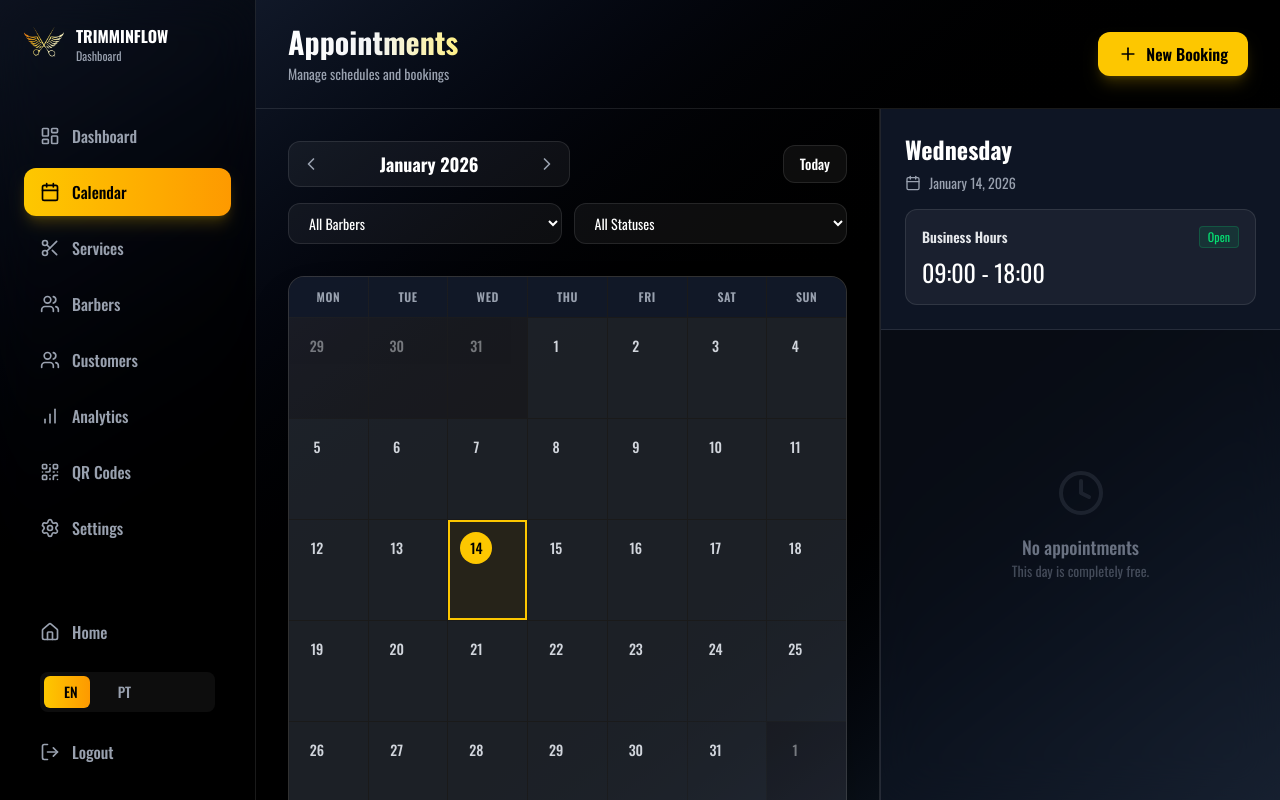
Scenario: Calendar & Appointments › should complete the appointment creation flow
# Open Modal
Click the button "New Booking".
click(1173, 54)  # box [1098,32,1248,76]
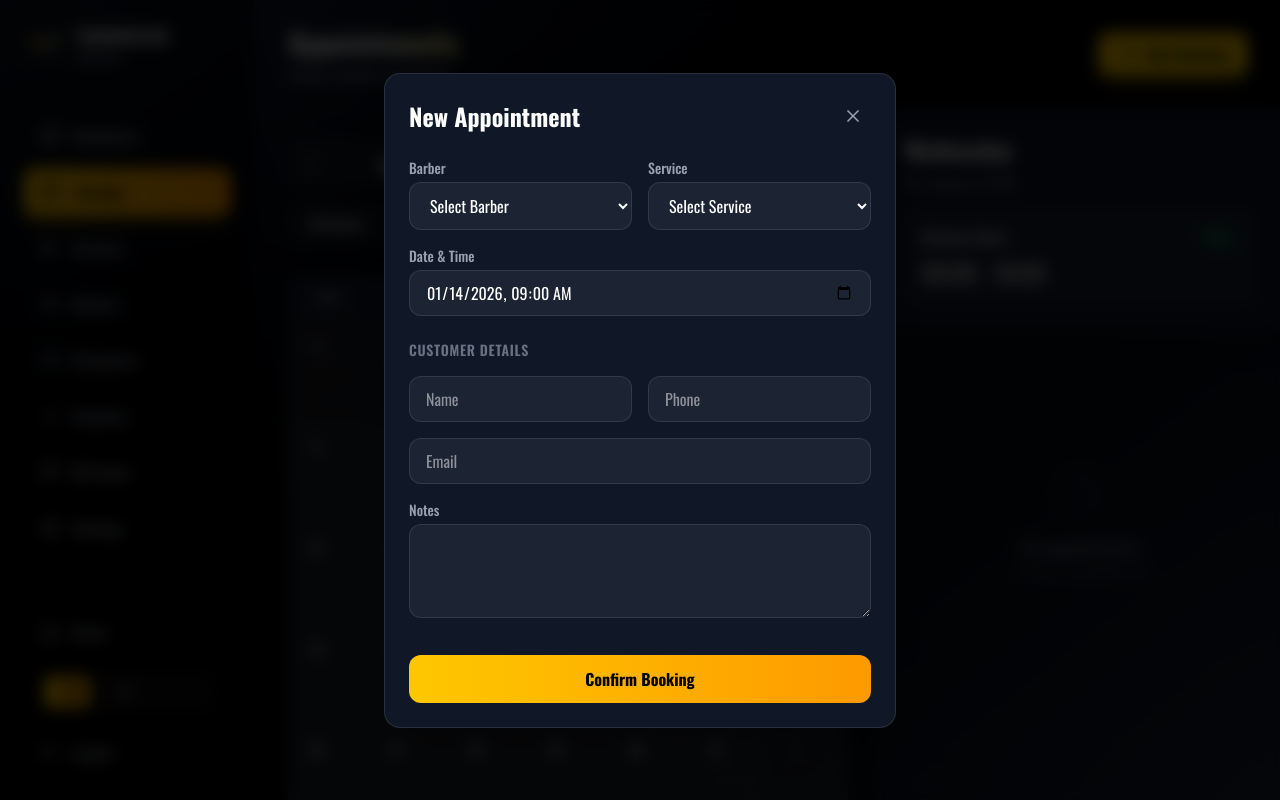
# Fill Form
Select "Maxi G" in the 1st dropdown at (521, 206), box [409,182,632,230]
Select "Haircut ($25)" in the 2nd dropdown at (760, 206), box [648,182,871,230]
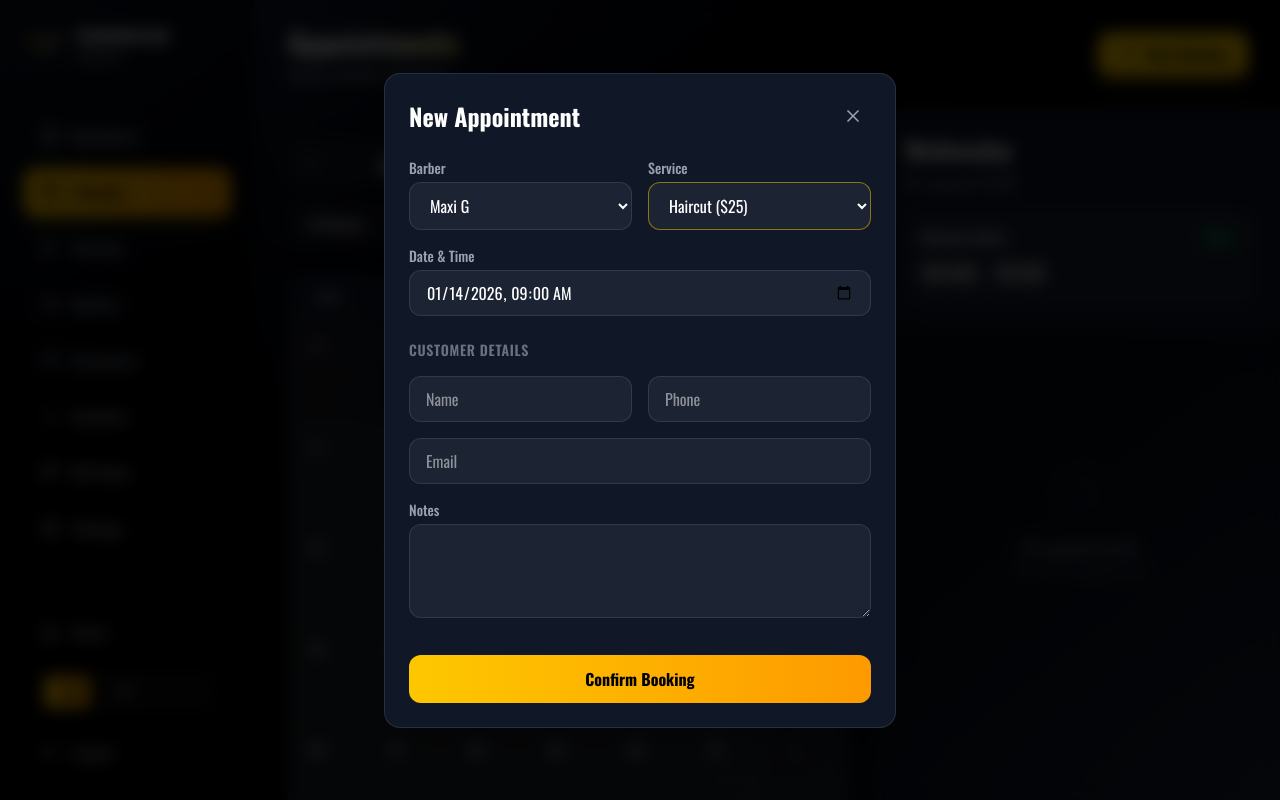
# Type Date (future date)
Type "2025-12-25T10:00" into the 1st field.
click(640, 293); type("2025-12-25T10:00")  # box [409,270,871,316]
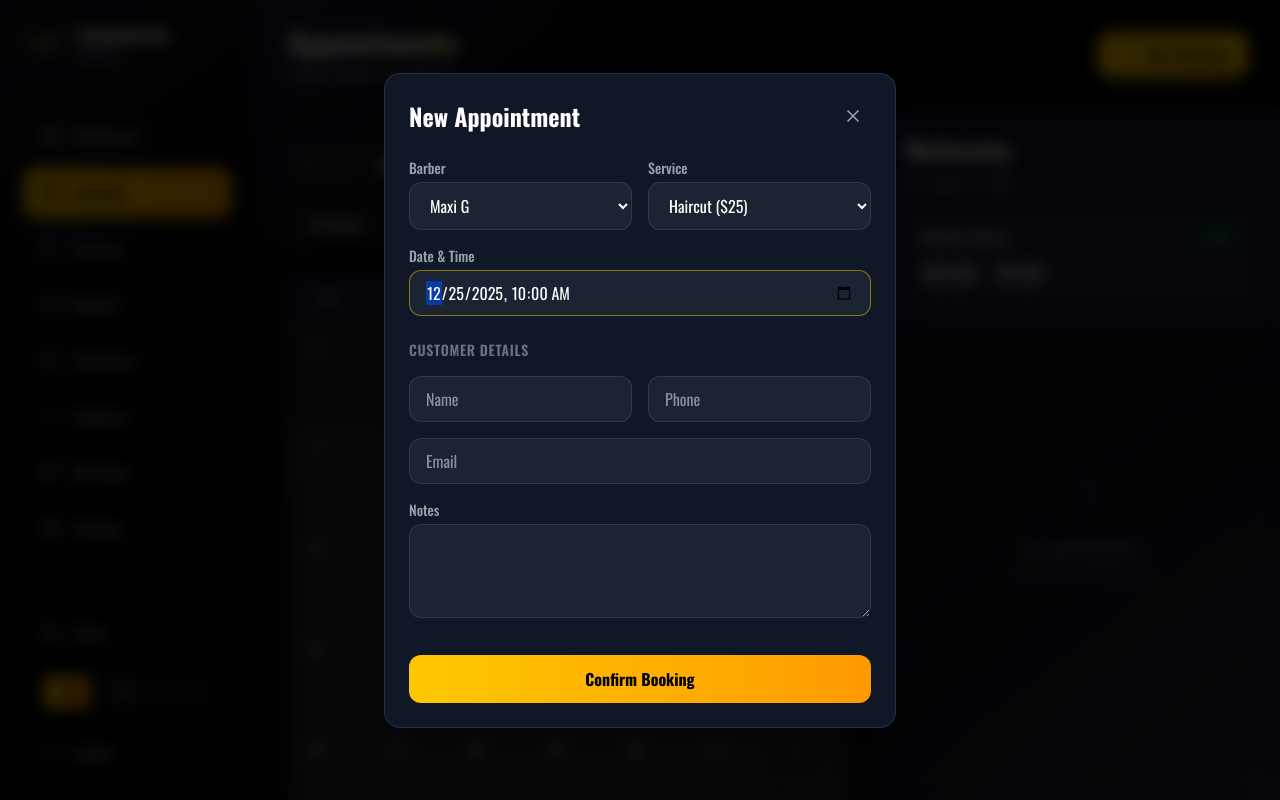
# Type Customer info
Type "John Doe" into the field with placeholder "Name".
click(521, 399); type("John Doe")  # box [409,376,632,422]
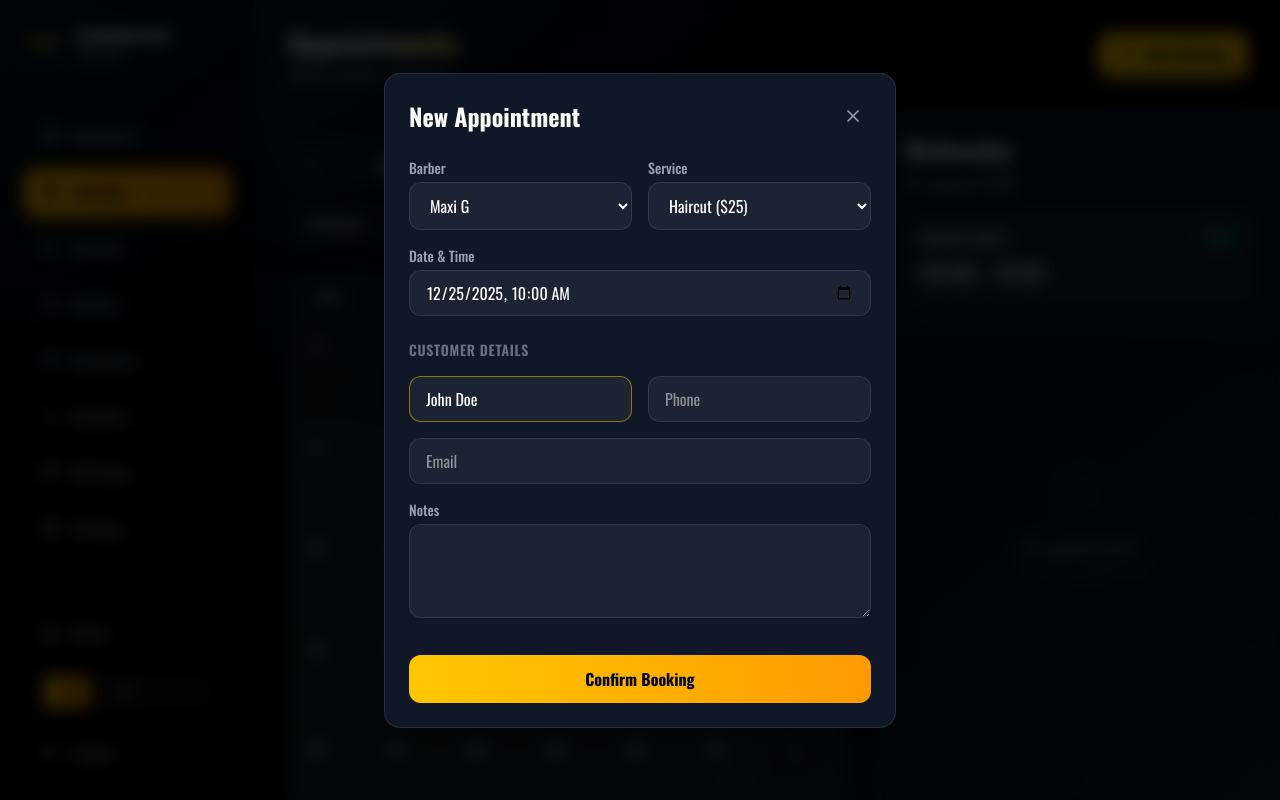
Type "john@test.com" into the field with placeholder "Email".
click(640, 461); type("john@test.com")  # box [409,438,871,484]
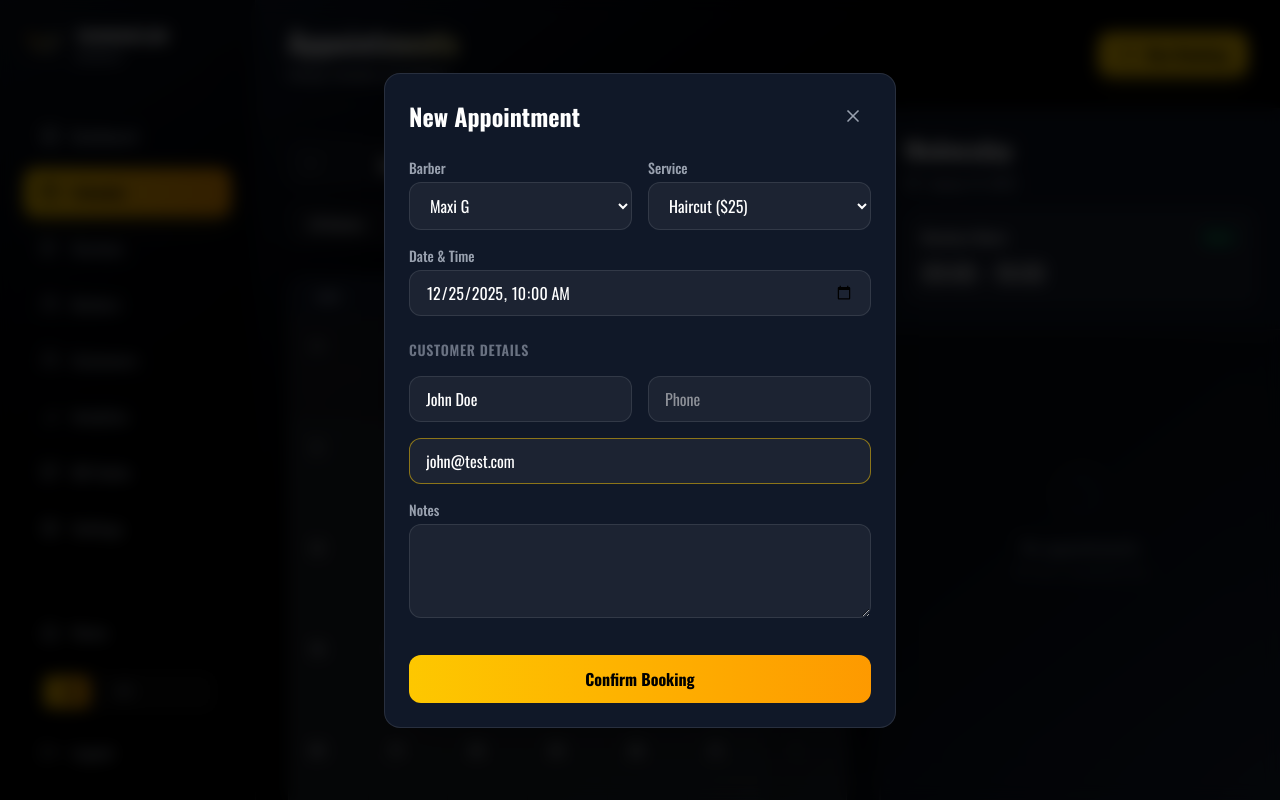
Click the button "Confirm Booking".
click(640, 679)  # box [409,655,871,703]
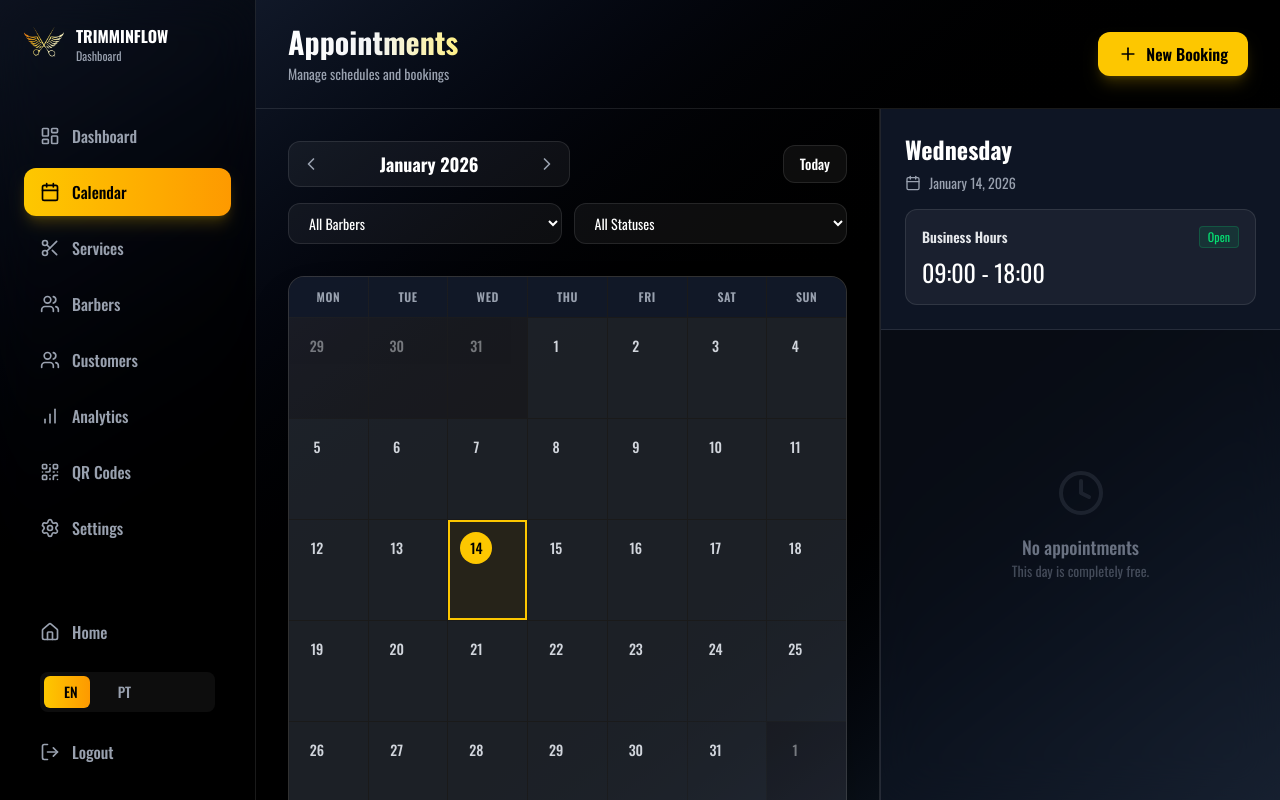
Now the heading "New Appointment" is gone
